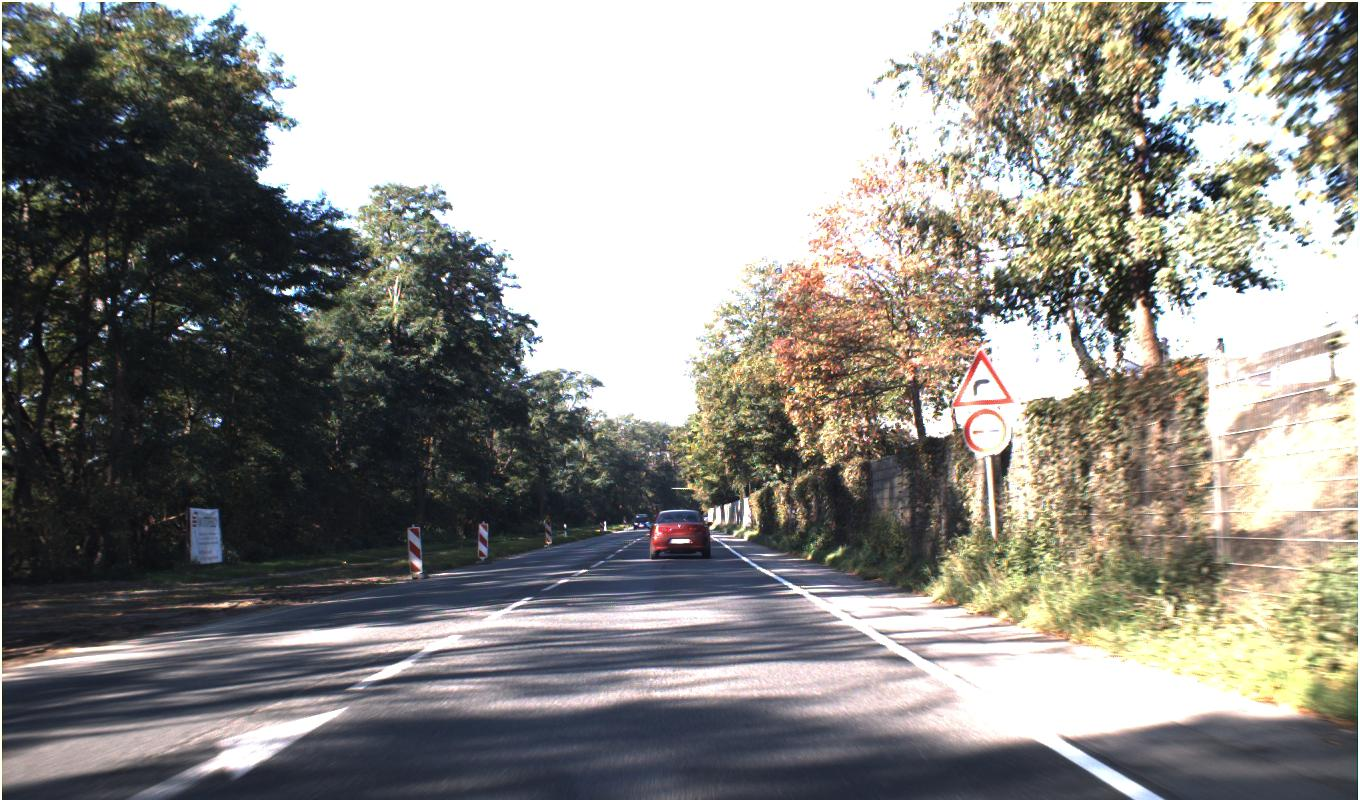danger: (951, 348, 1015, 408)
prohibitory: (962, 408, 1011, 455)
